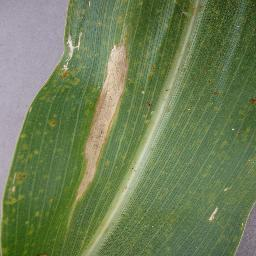Corn_Blight: (96, 35, 133, 95), (98, 0, 146, 35), (87, 95, 125, 136), (76, 138, 109, 176), (61, 30, 83, 77), (70, 174, 99, 202), (1, 186, 26, 214), (177, 0, 212, 18), (41, 78, 83, 93), (0, 215, 16, 249), (66, 3, 90, 24), (27, 209, 43, 237), (0, 249, 57, 256), (207, 202, 221, 226), (145, 61, 160, 80), (207, 77, 222, 96), (10, 169, 27, 185), (16, 151, 40, 159), (47, 117, 63, 127), (239, 218, 249, 234), (244, 95, 256, 108), (146, 97, 156, 110), (223, 182, 235, 192), (16, 132, 29, 140)
